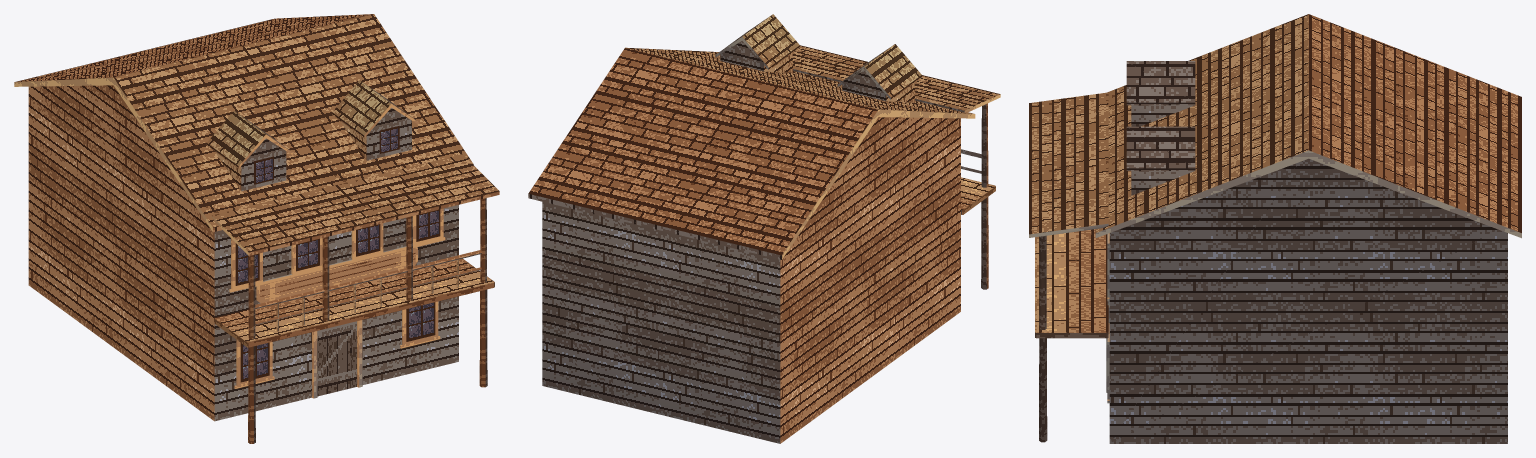
The model's file is wtown.hotel.glb.
3 views of the same model, side by side, from view 1: azimuth 30°, elevation 25°; view 2: azimuth 150°, elevation 25°; view 3: azimuth 270°, elevation 25° (orthographic). The views are drawn at different scales.
Parts seen in each view (by area): view 1: kit_body, kit_roof, kit_veranda, kit_veranda_roof, kit_card_panes, kit_dormer_roofs, kit_dormers, kit_windows, kit_trim; view 2: kit_body, kit_roof, kit_dormer_roofs, kit_veranda_roof, kit_veranda, kit_dormers; view 3: kit_body, kit_roof, kit_veranda_roof, kit_veranda, kit_dormer_roofs, kit_dormers.
Part boxes in pixels (box(x1,y1,x2,y2)): kit_body: box(28, 85, 458, 421); kit_roof: box(14, 14, 473, 232); kit_veranda: box(214, 198, 494, 443); kit_veranda_roof: box(211, 154, 499, 255); kit_card_panes: box(235, 126, 440, 396); kit_dormer_roofs: box(206, 80, 418, 168); kit_dormers: box(215, 108, 411, 191); kit_windows: box(229, 208, 445, 388); kit_trim: box(256, 246, 417, 398); kit_body: box(542, 117, 960, 443); kit_roof: box(528, 47, 975, 259); kit_dormer_roofs: box(715, 14, 921, 99); kit_veranda_roof: box(793, 45, 1000, 112); kit_veranda: box(961, 103, 995, 289); kit_dormers: box(720, 41, 914, 102); kit_body: box(1109, 158, 1507, 443); kit_roof: box(1095, 14, 1521, 238); kit_veranda_roof: box(1029, 92, 1108, 237); kit_veranda: box(1035, 229, 1108, 442); kit_dormer_roofs: box(1126, 61, 1195, 170); kit_dormers: box(1131, 105, 1194, 195).
Size of the model in its own units: 8.1 by 8.25 by 12.37.
10 materials, 10 textured.
